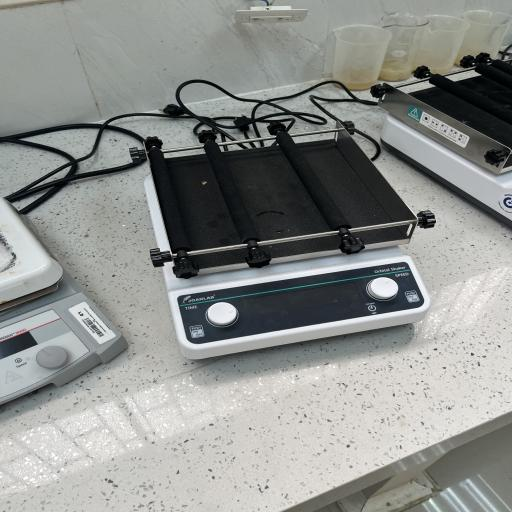Agitador_Orbital_DLAB: (102, 113, 454, 372)
